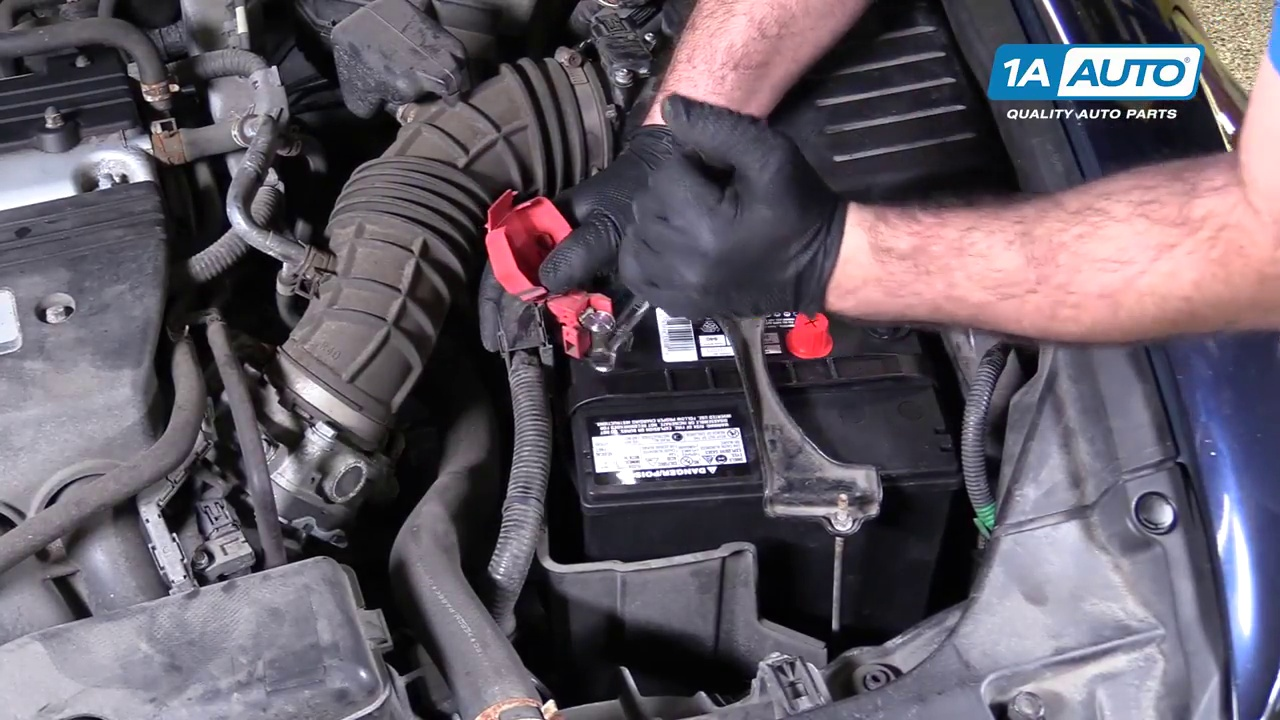battery: (556, 288, 963, 492)
pos_touched: (475, 174, 681, 380)
